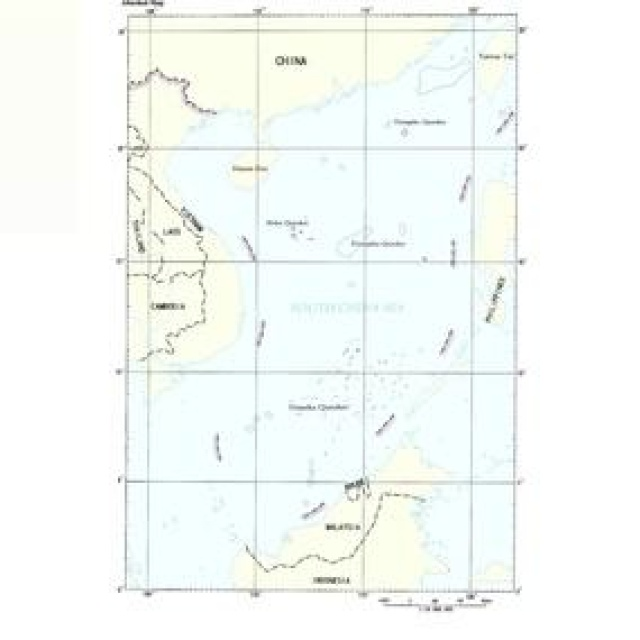Nine Dash Line: (201, 105, 592, 533)
